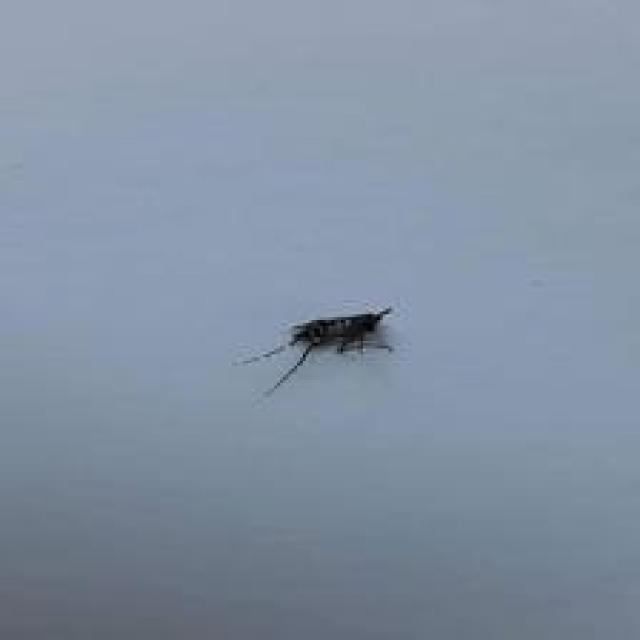Aedes albopictus: (233, 303, 396, 397)
